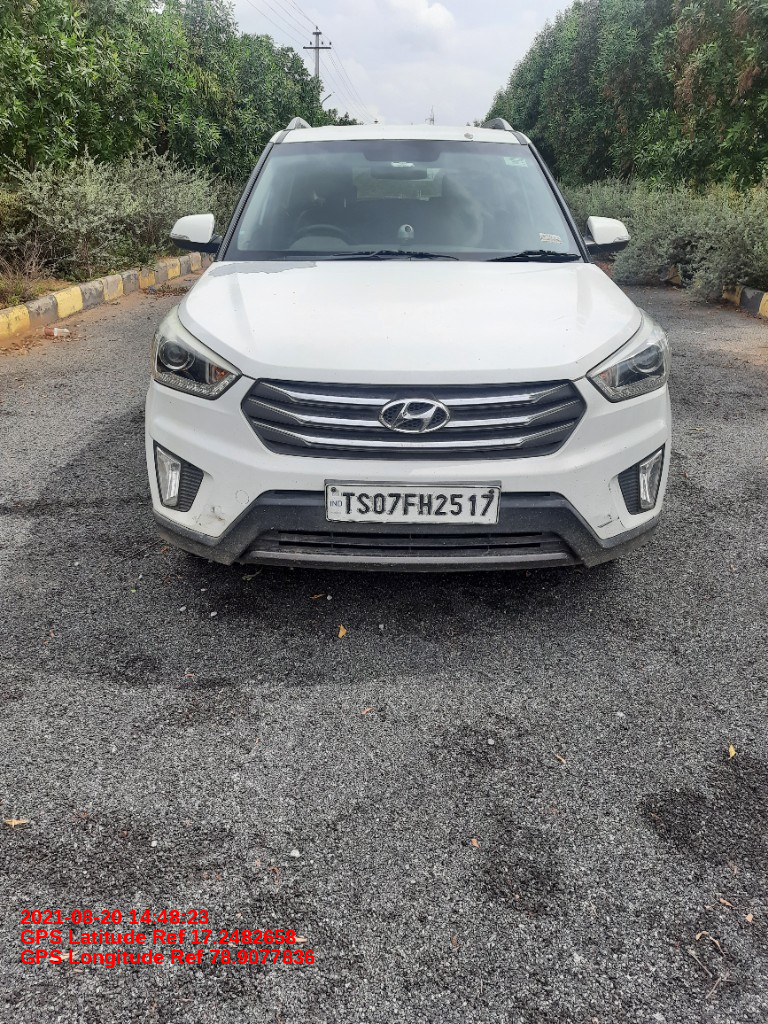Scratched: (196, 499, 228, 533), (593, 514, 628, 529), (599, 477, 614, 494)
